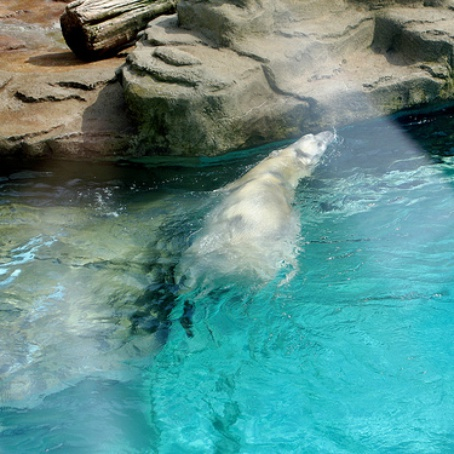rocks: (3, 1, 431, 152)
sea: (1, 131, 454, 454)
